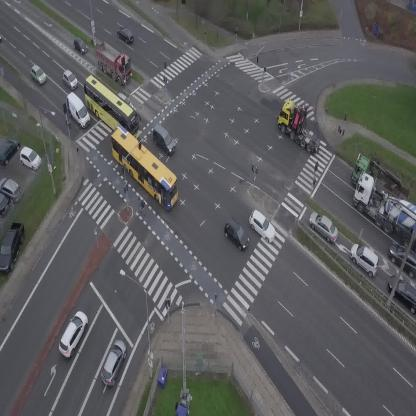bicycle: (139, 200, 146, 214)
bus: (99, 125, 189, 211), (72, 73, 150, 145)
car: (54, 308, 92, 359), (98, 338, 131, 389), (344, 240, 386, 279), (304, 208, 344, 246), (244, 207, 281, 245), (219, 217, 255, 252), (146, 123, 180, 156), (26, 63, 49, 87), (114, 23, 137, 46), (59, 68, 81, 91), (68, 35, 90, 57), (118, 91, 131, 103)
lorry: (269, 96, 334, 156), (86, 37, 141, 88), (58, 91, 97, 130)
